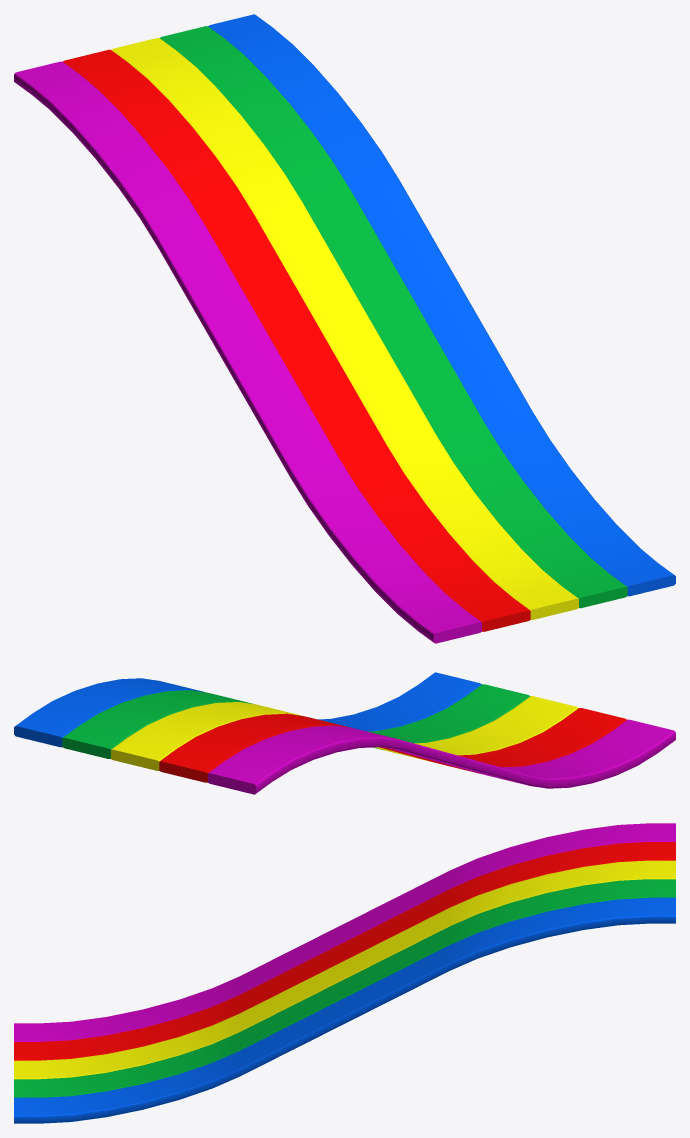
File: platform_marmalade_002.glb
3 renders of one model, top to bottom at view 1: azimuth 30°, elevation 25°; view 2: azimuth 150°, elevation 25°; view 3: azimuth 270°, elevation 25°, orthographic. The views are drawn at different scales.
Parts seen in each view (by area): view 1: platform_marmalade_002; view 2: platform_marmalade_002; view 3: platform_marmalade_002.
Part boxes in pixels (x1,y1,x2,y2): platform_marmalade_002: (14,14,675,643); platform_marmalade_002: (14,672,675,794); platform_marmalade_002: (14,823,675,1123).
Bounding box in the file's own units: 12 × 12.5 × 36.
Materials: 1 (1 with a texture image).
